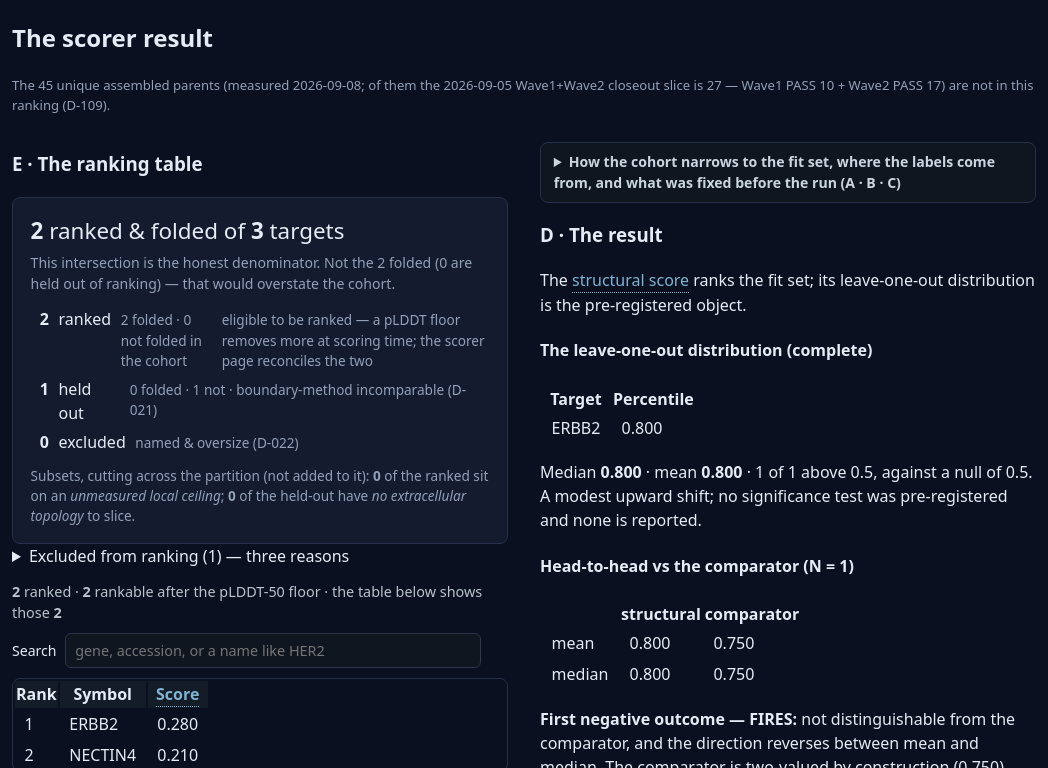
Test case: D-152 — the new search boxes cannot rewrite a statistic › /scorer — filtering the table does not touch the run it reports
Check: the heading "E · The ranking table" is shown, box x1=12 y1=151 x2=203 y2=176
Type "ERBB2" into the search field labelled "Search" at (273, 651), box x1=65 y1=634 x2=481 y2=668
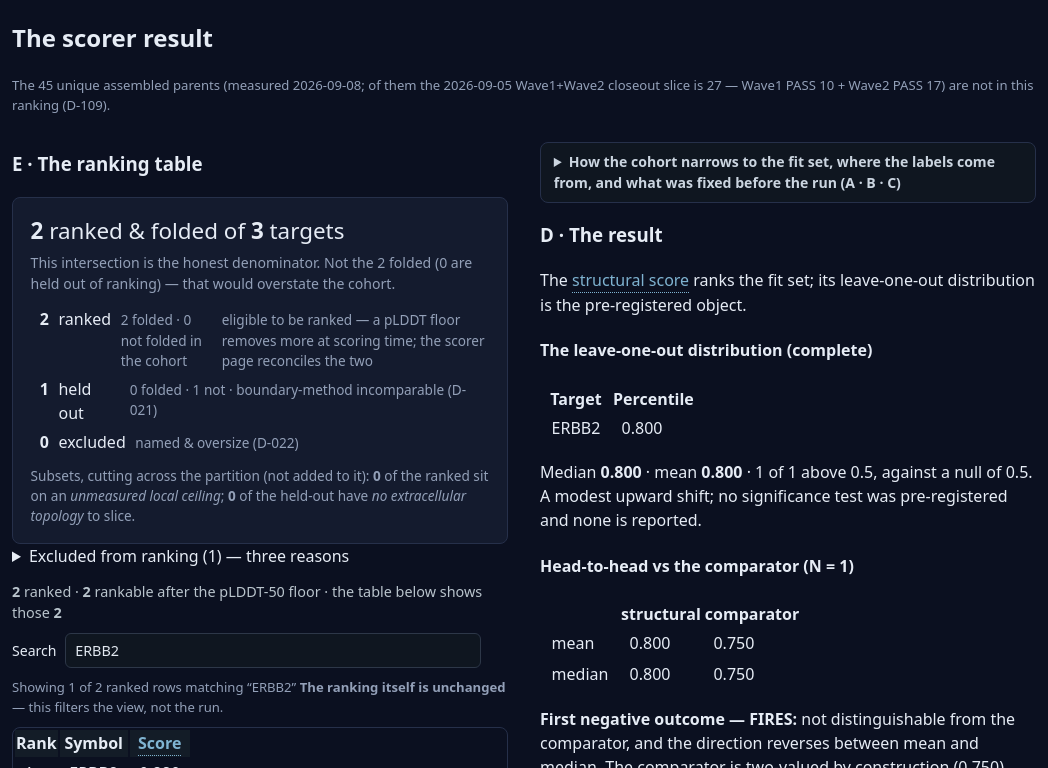
Check: the element with class "ranking-reconciliation" shows "the table below shows those 2", box x1=12 y1=581 x2=508 y2=624
Check: the element with class "filter-count" shows "The ranking itself is unchanged", box x1=300 y1=678 x2=506 y2=696
